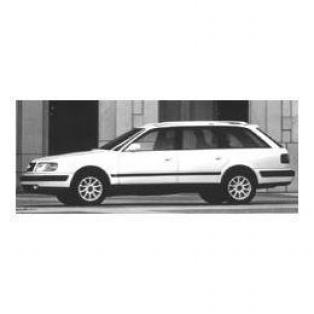Auto: (21, 119, 294, 206)
